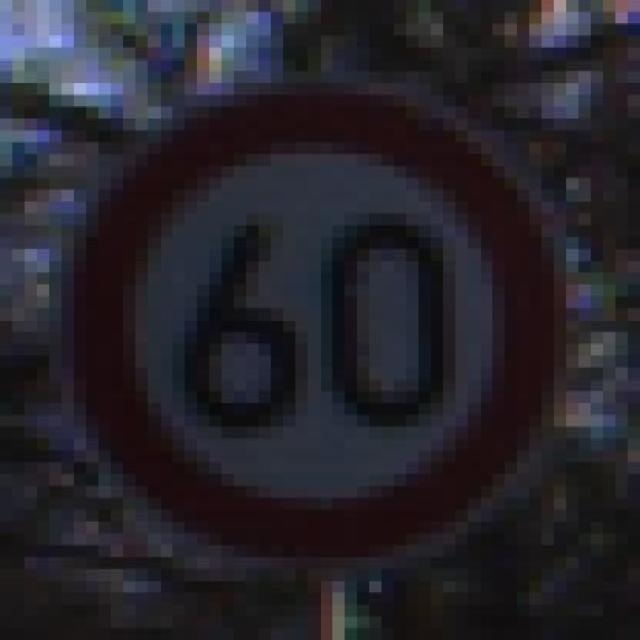forb_speed_over_60: (100, 108, 534, 546)
